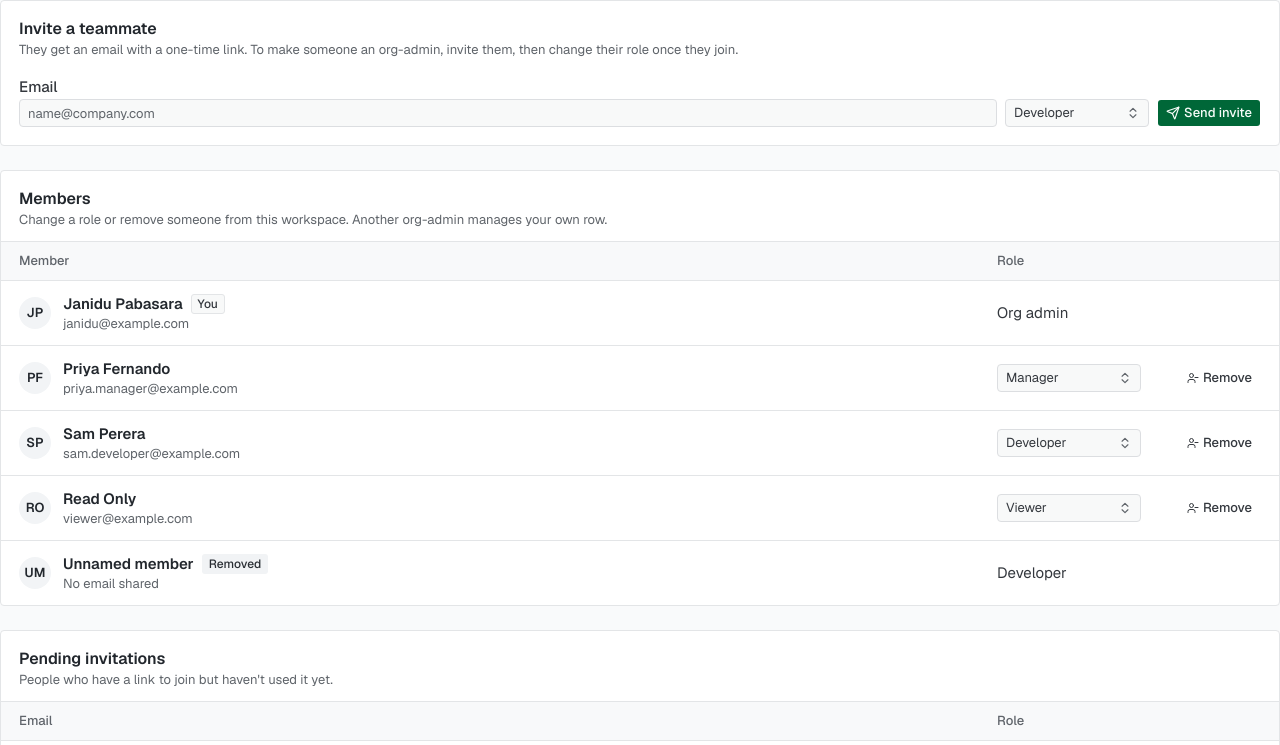
Scenario: a malformed email is caught before any request
This screenshot has width=1280, height=745.
Type "not-an-email" into the field labelled "Email" at (508, 113), box [19, 99, 997, 127]
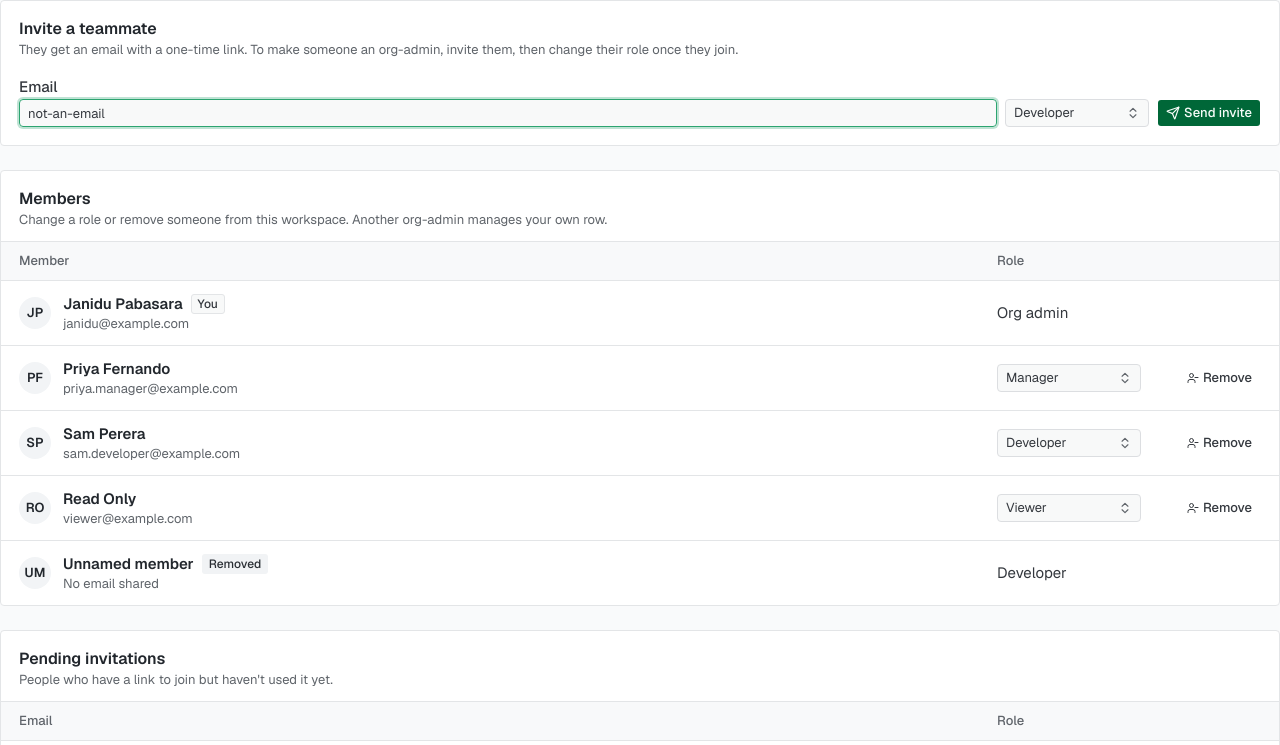
Click the button "Send invite" at (1209, 113), box [1157, 99, 1261, 127]
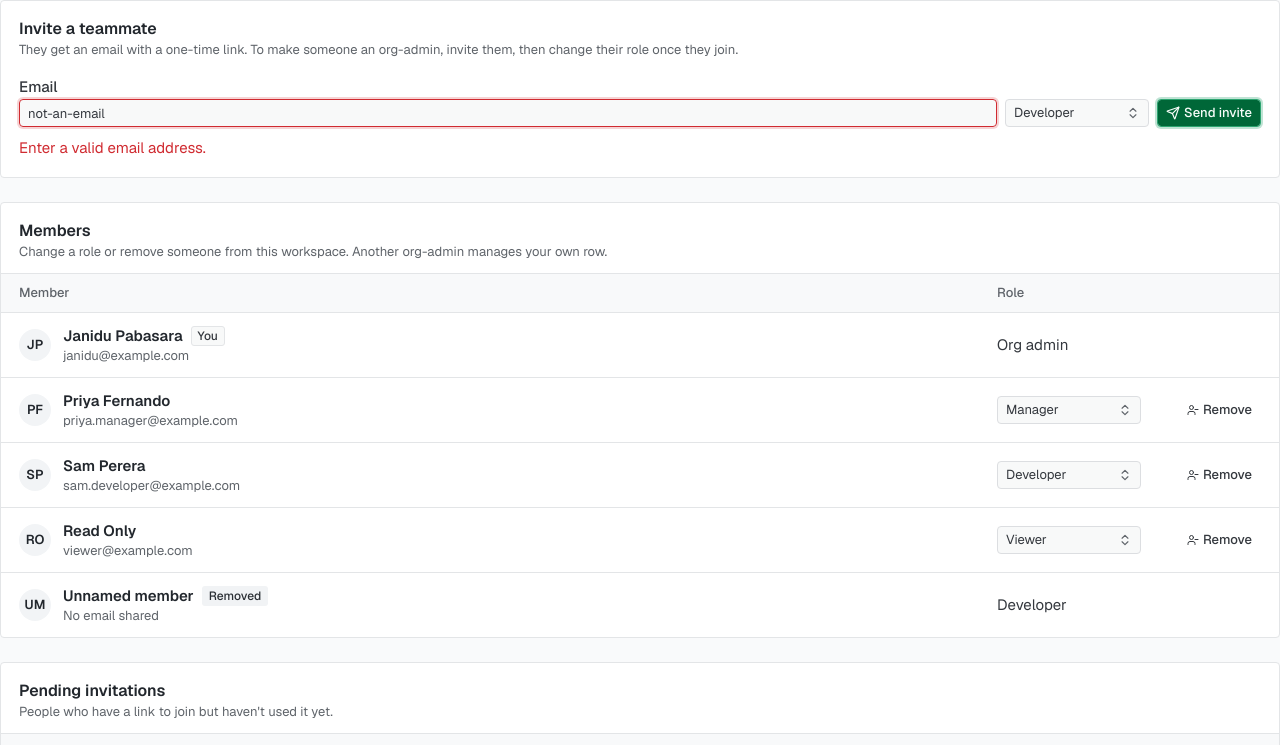
Expected: the message shows "valid email", [19, 138, 206, 157]
